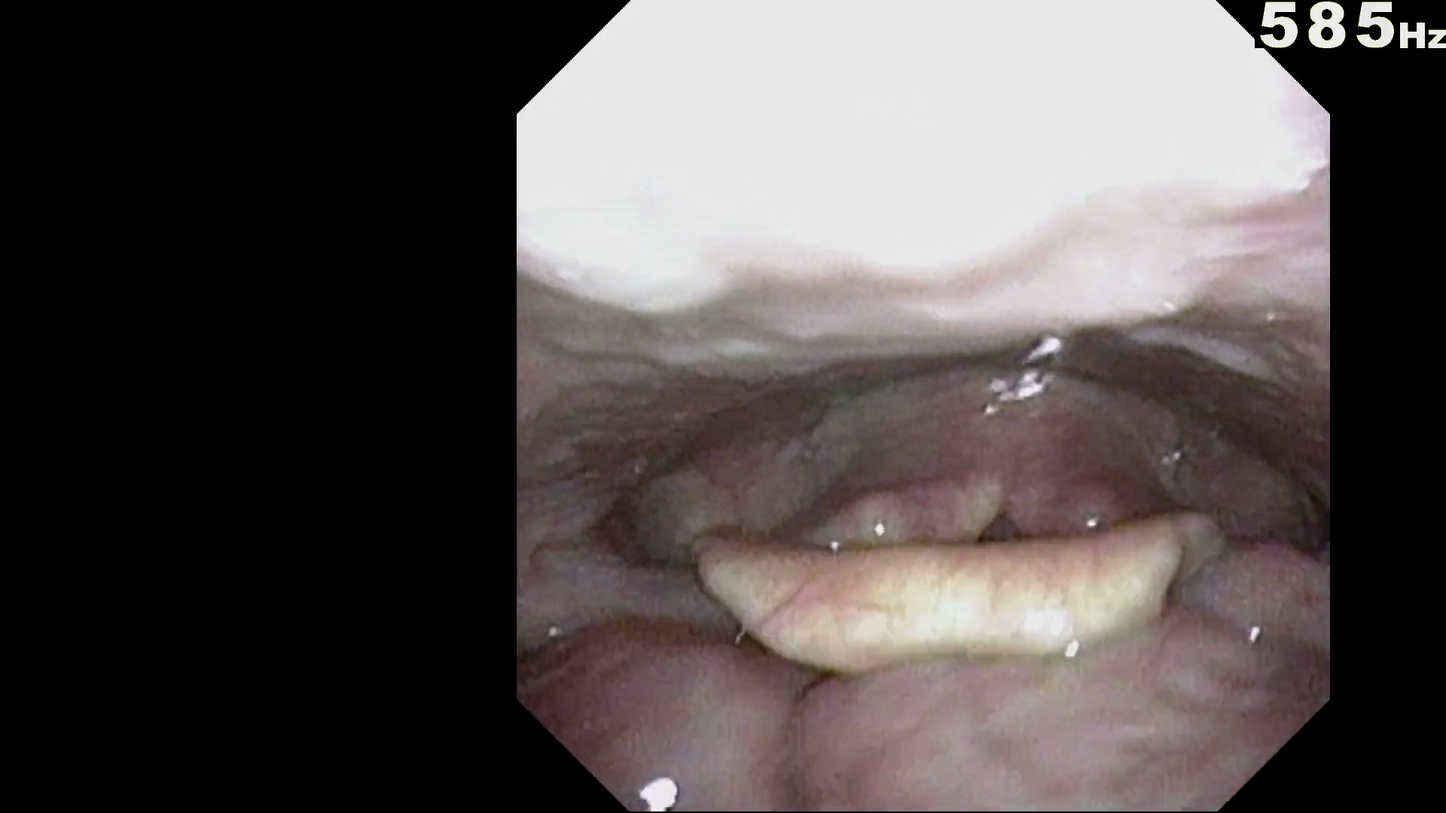epiglottis: (688, 526, 1230, 665)
trachea: (926, 533, 1054, 627)
